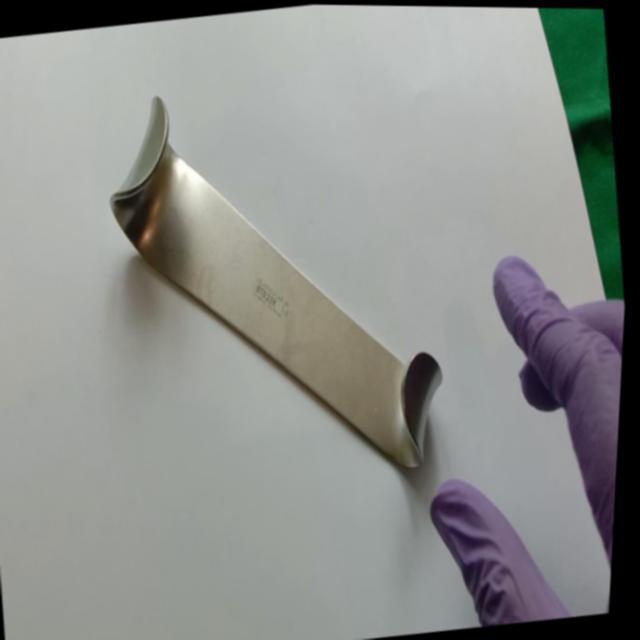CheekRetractor: (82, 53, 472, 506)
